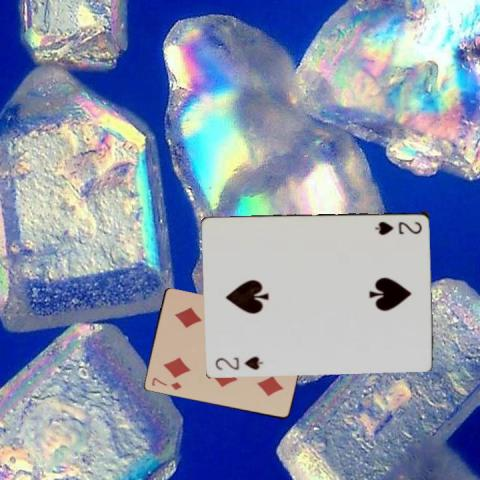2s: (212, 353, 265, 371), (372, 218, 423, 235)
7d: (148, 375, 182, 391)
